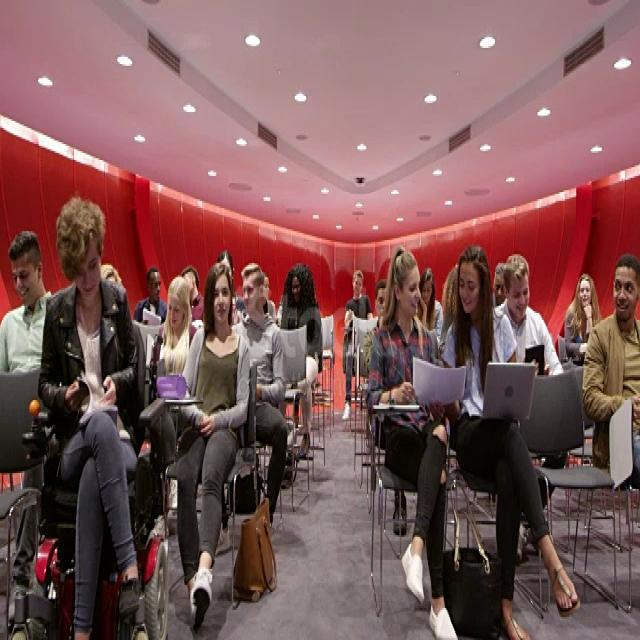Looking away: (10, 248, 44, 308), (72, 236, 102, 298), (613, 264, 637, 320), (458, 260, 481, 314), (399, 264, 422, 318), (505, 272, 530, 320), (242, 273, 262, 315), (167, 294, 184, 328), (148, 268, 162, 304), (492, 269, 506, 305), (290, 273, 304, 304), (421, 276, 434, 306)
Looking forward: (212, 272, 232, 324), (578, 278, 594, 310), (353, 274, 364, 296)
